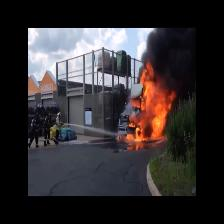fire: (139, 72, 156, 139), (156, 91, 172, 136)
smoke: (149, 28, 196, 69), (158, 71, 194, 90)
